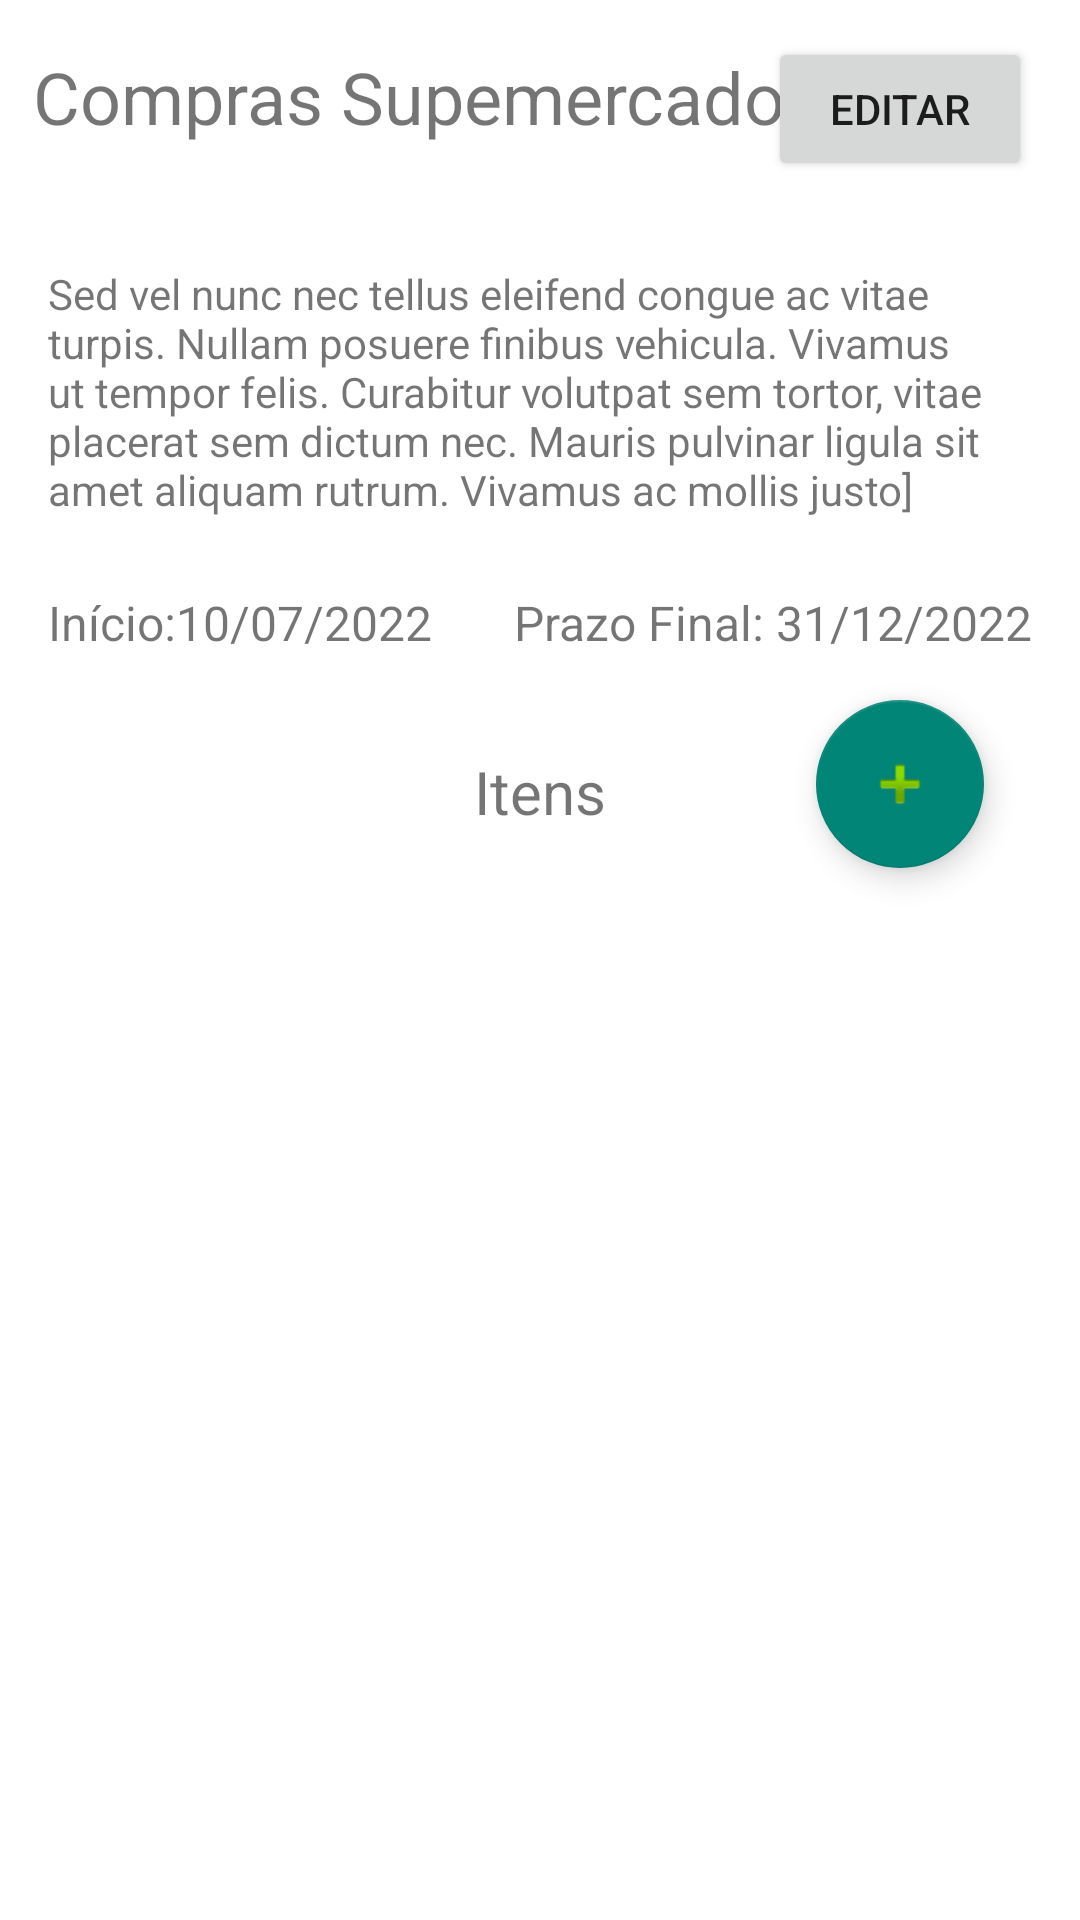

Where to tap for icons on this 1080x1920 app screen, as (x,y):
add: (900,784)
